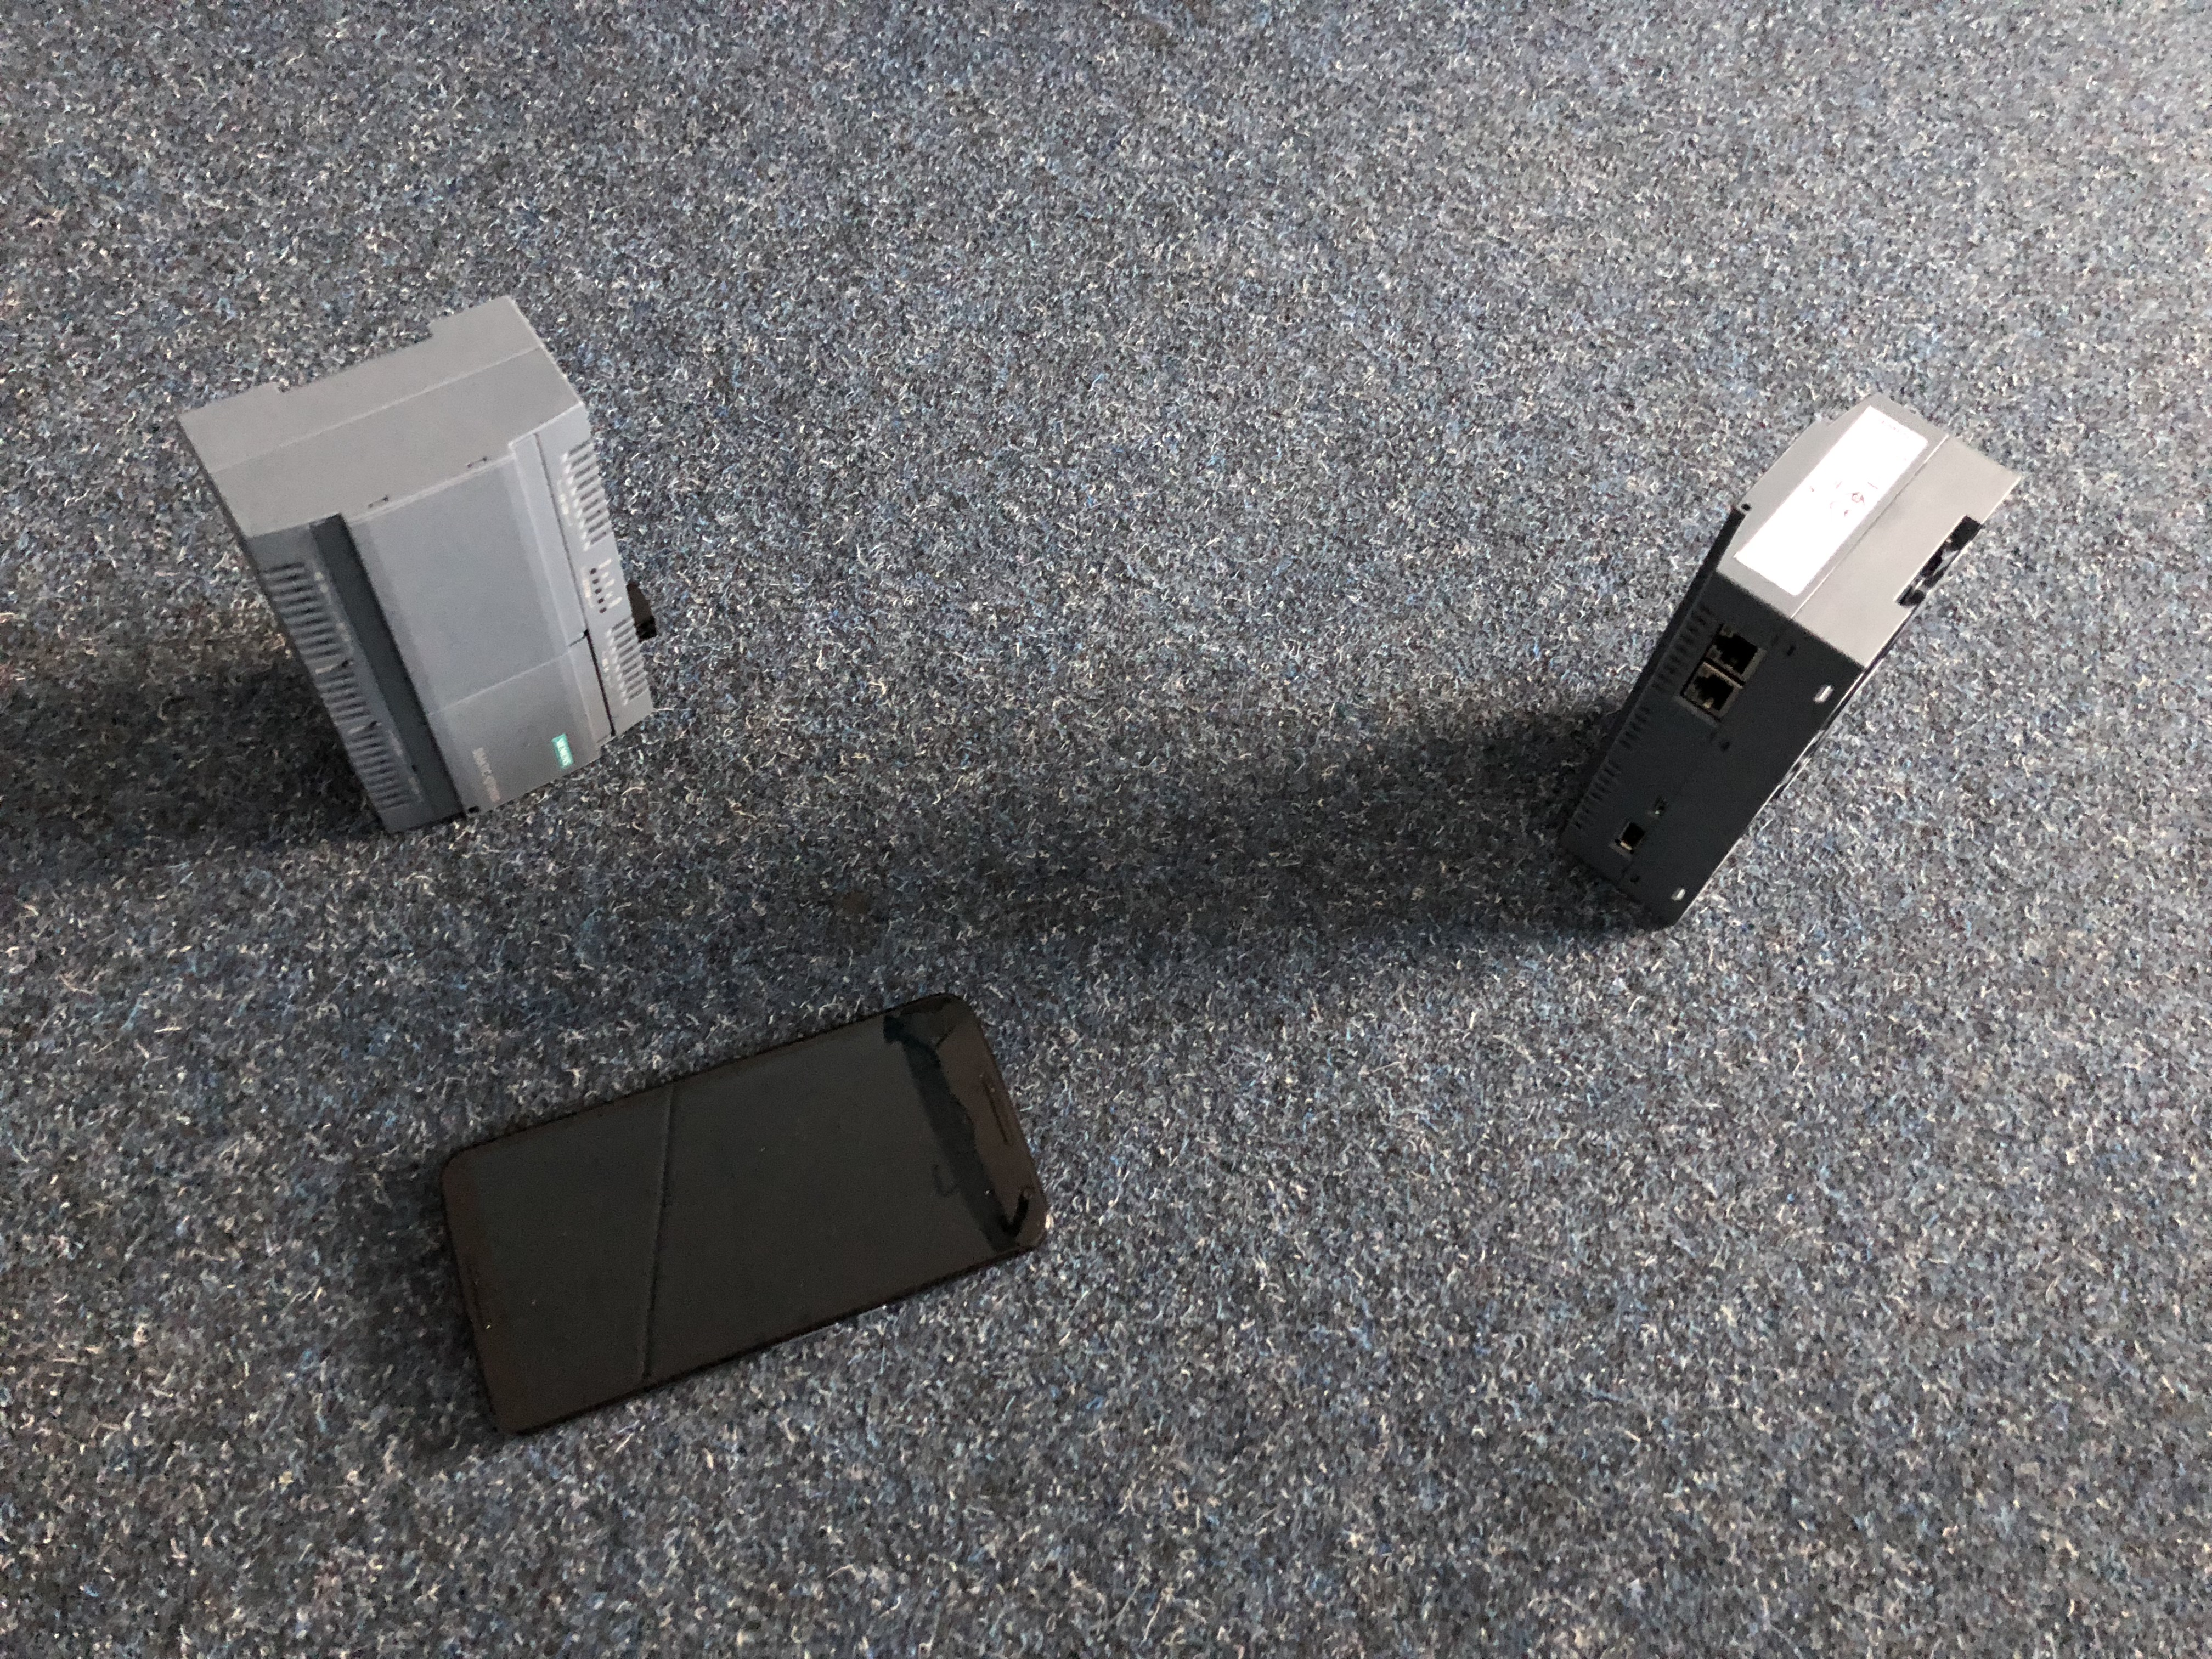device: (178, 295, 658, 835), (1559, 392, 2022, 925)
